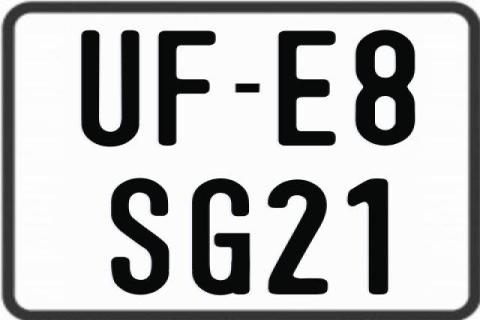0: (352, 28, 417, 148), (268, 177, 330, 297), (344, 176, 390, 294)
E: (277, 28, 338, 145)
F: (155, 28, 213, 143)
G: (189, 178, 251, 300)
S: (108, 175, 170, 292)
U: (80, 30, 138, 146)
